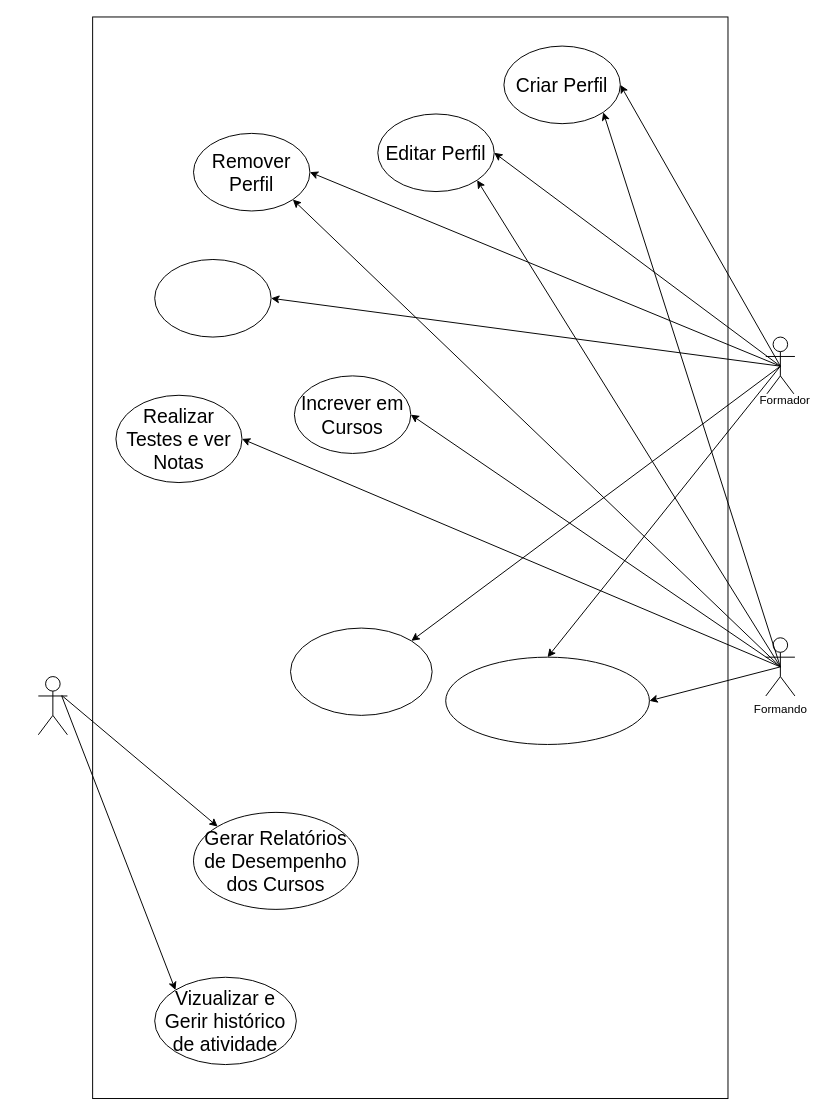
The diagram is 834 pixels wide and 1116 high, and some of its shapes have lost their labels. The shapes that lost their labels are listed below. From the top down, each one's centre as x and y in pixels, then its label:
(212,298): Criar Curso
(361,671): Adicionar e Remover Cursos
(52,705): Administrador
(547,700): Alterar PassWord em caso de esquecimento
